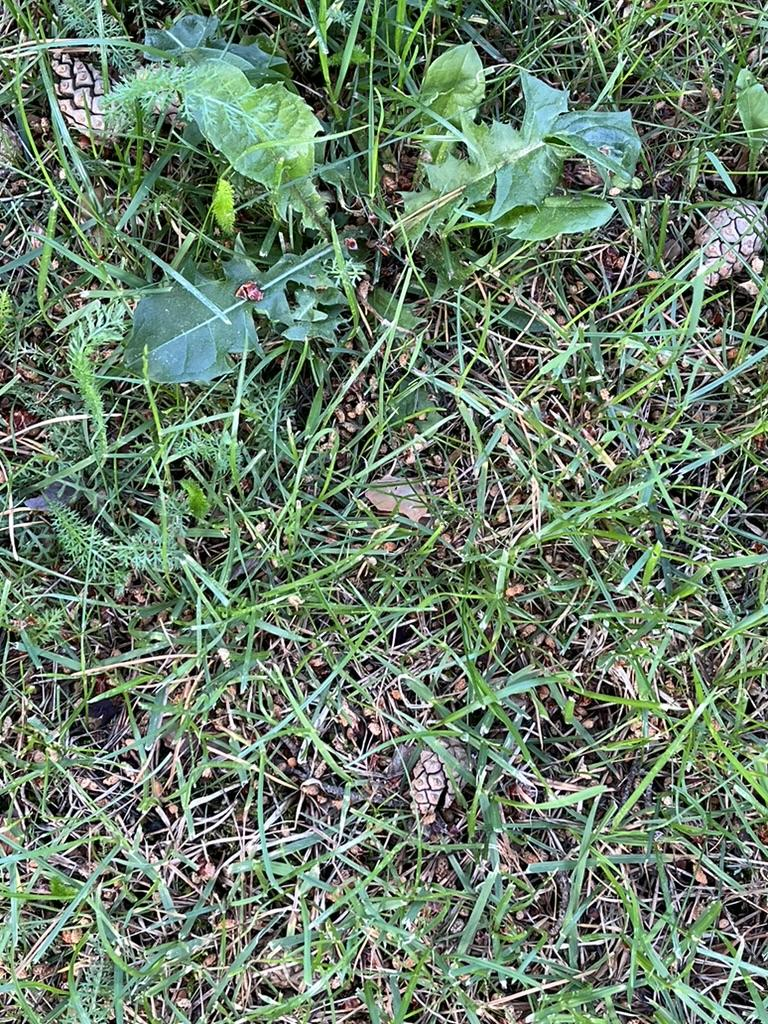pine: (34, 28, 144, 170), (678, 180, 768, 320), (404, 723, 496, 833), (0, 103, 33, 180)
